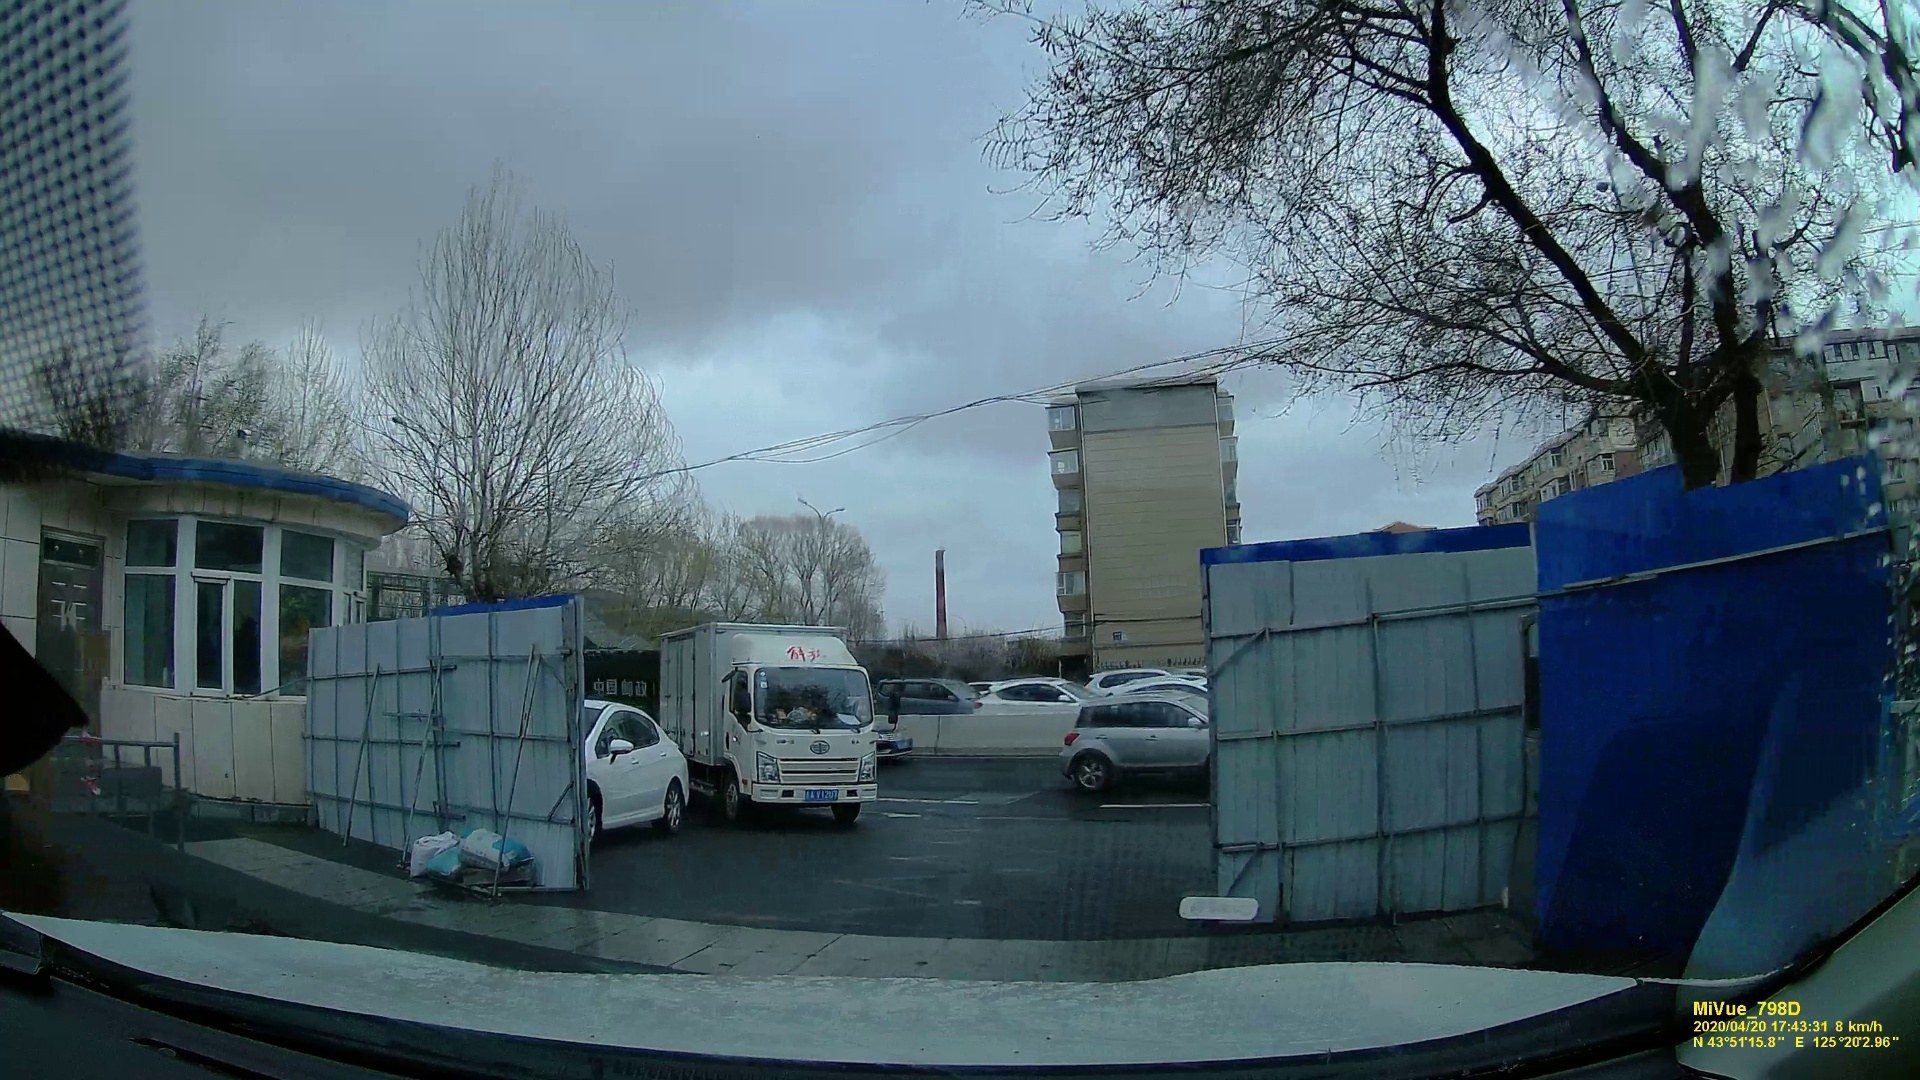truck: (657, 626, 880, 835)
vehicle: (1062, 695, 1215, 791), (588, 694, 690, 829), (878, 673, 980, 716), (985, 673, 1083, 712)
